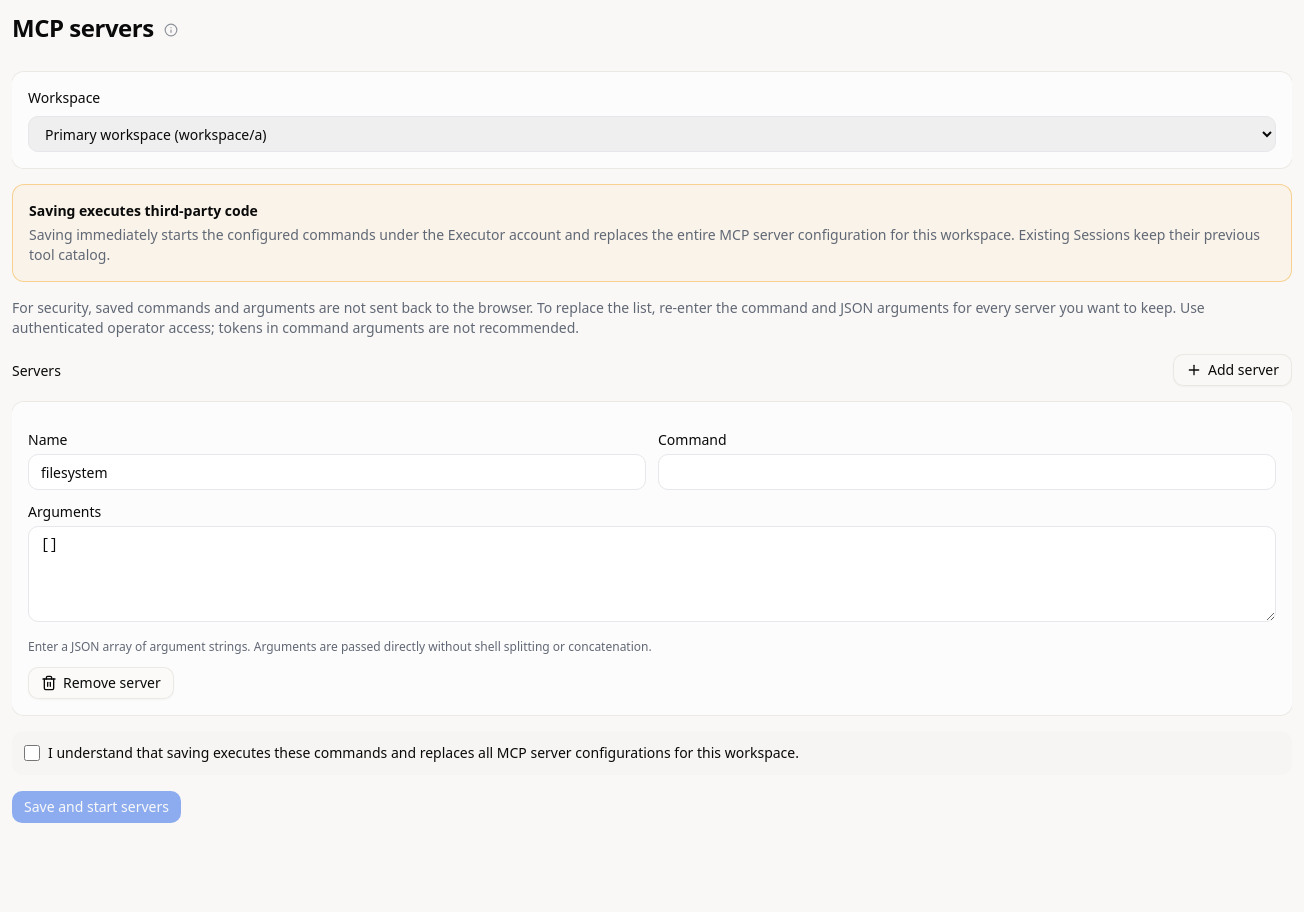
Test: McpSection › keeps the editor and reports a rejected save without claiming success
Check: the field showing "filesystem" is shown, box [28,454,646,490]
Type "npx" into the field named "Server 1 command".
click(967, 472); type("npx")  # box [658,454,1276,490]
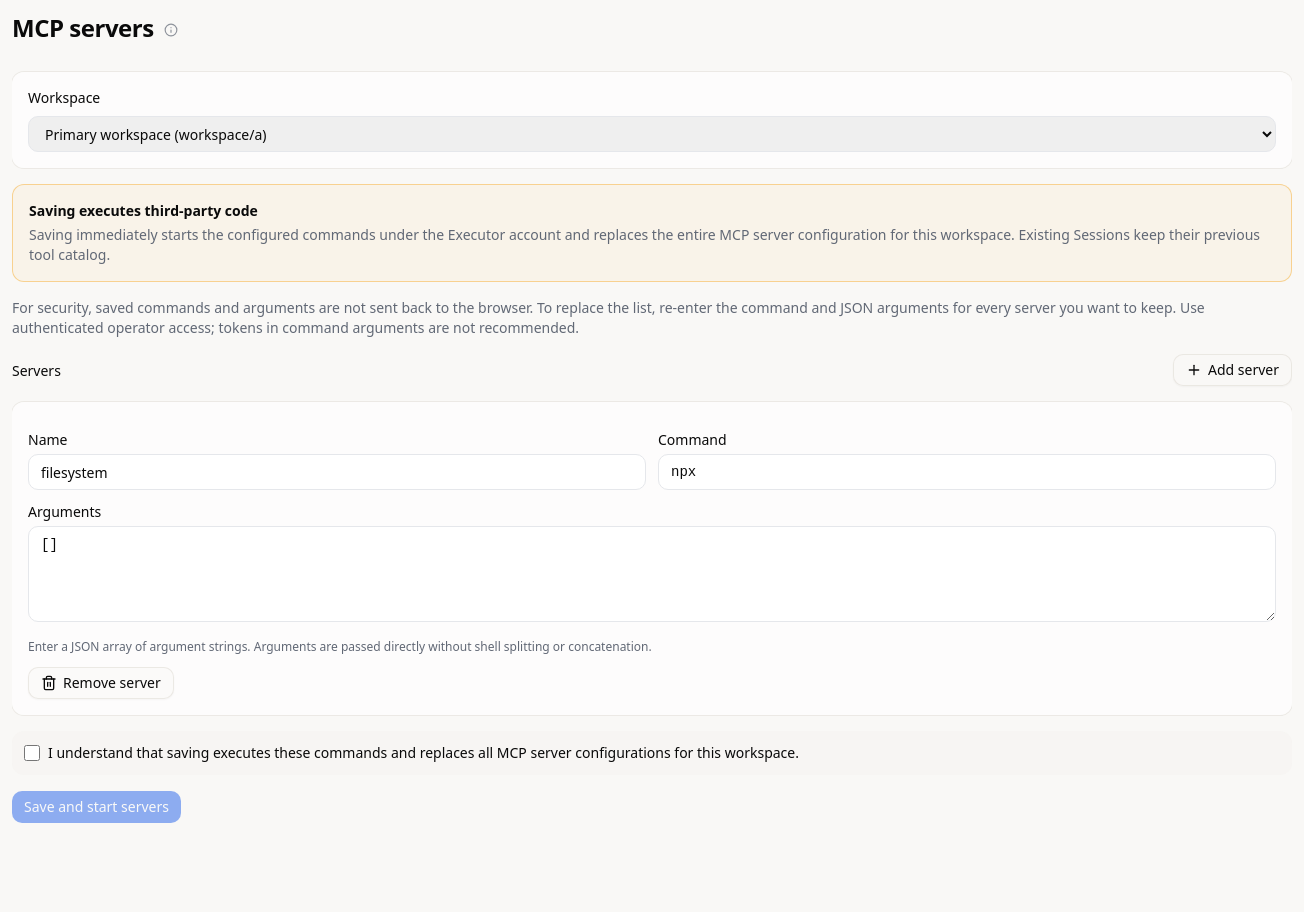
Click the checkbox labelled "I understand that saving executes these commands".
click(32, 753)  # box [24,745,40,761]
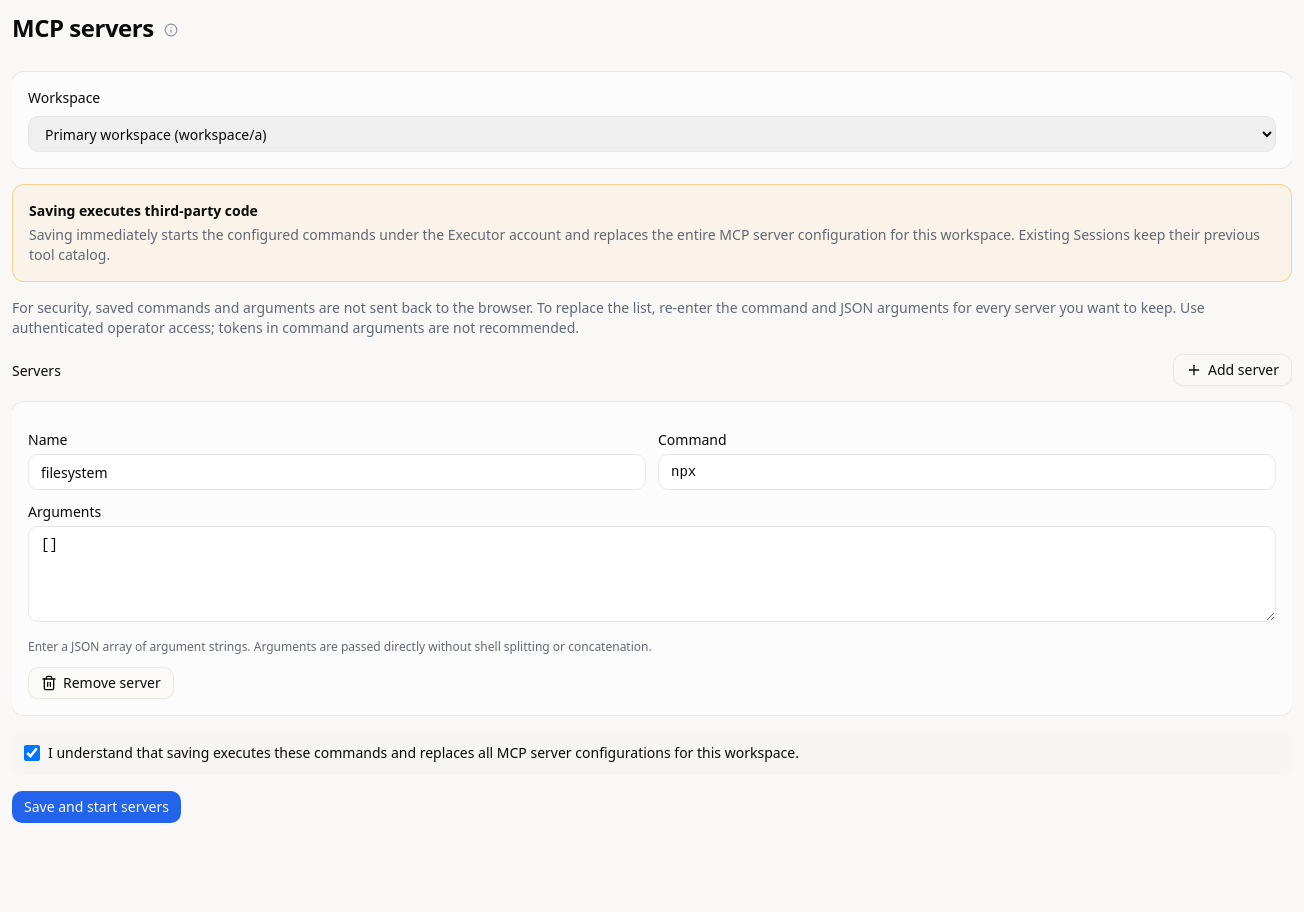
Click the button with test id "settings-mcp-save".
click(96, 807)  # box [12,791,181,823]
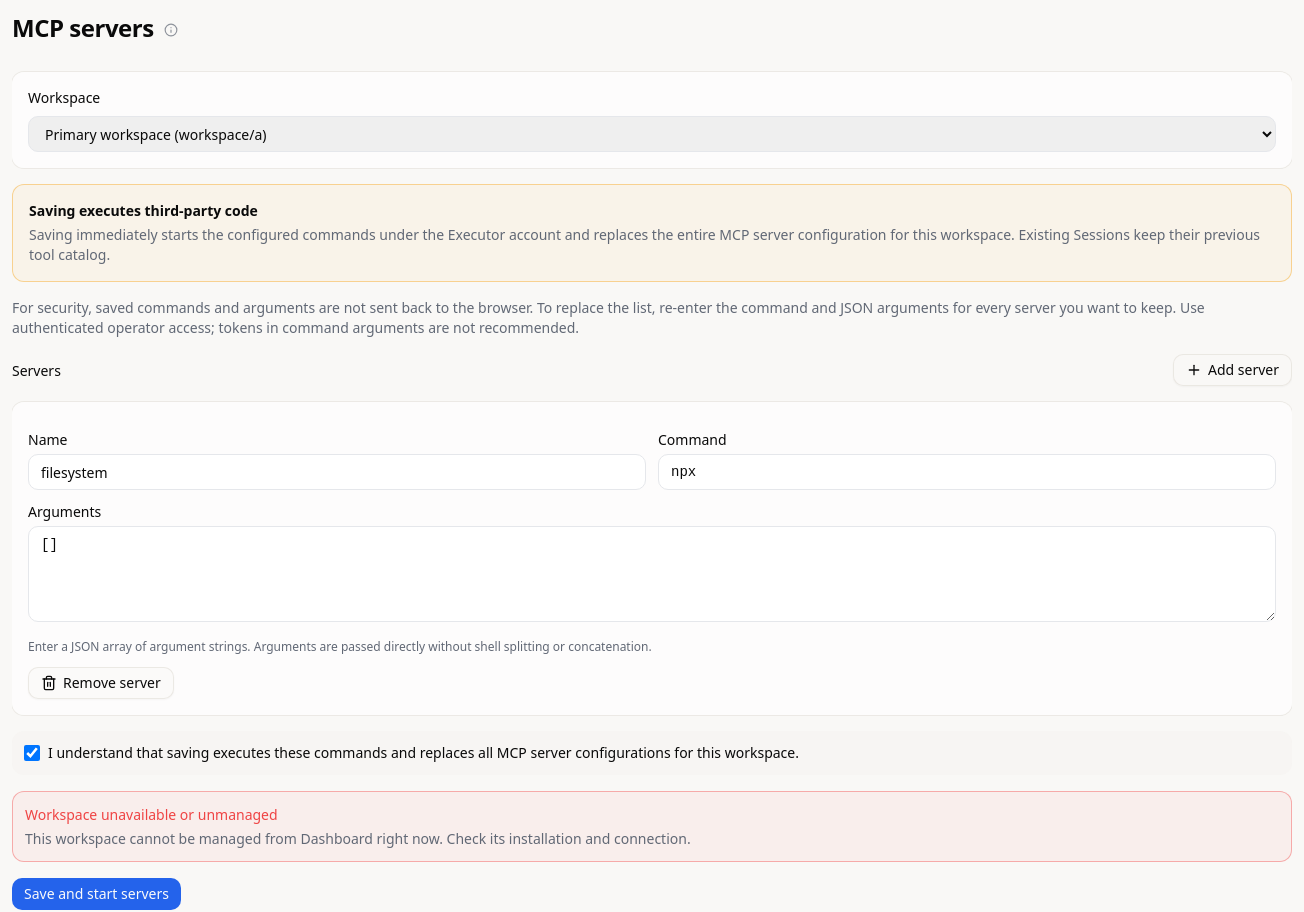
Check: the field showing "filesystem" is shown, box [28,454,646,490]
Check: the text "Workspace unavailable or unmanaged" is shown, box [25,805,278,824]
Check: the text "cannot be managed from Dashboard right now" is shown, box [25,829,691,848]
